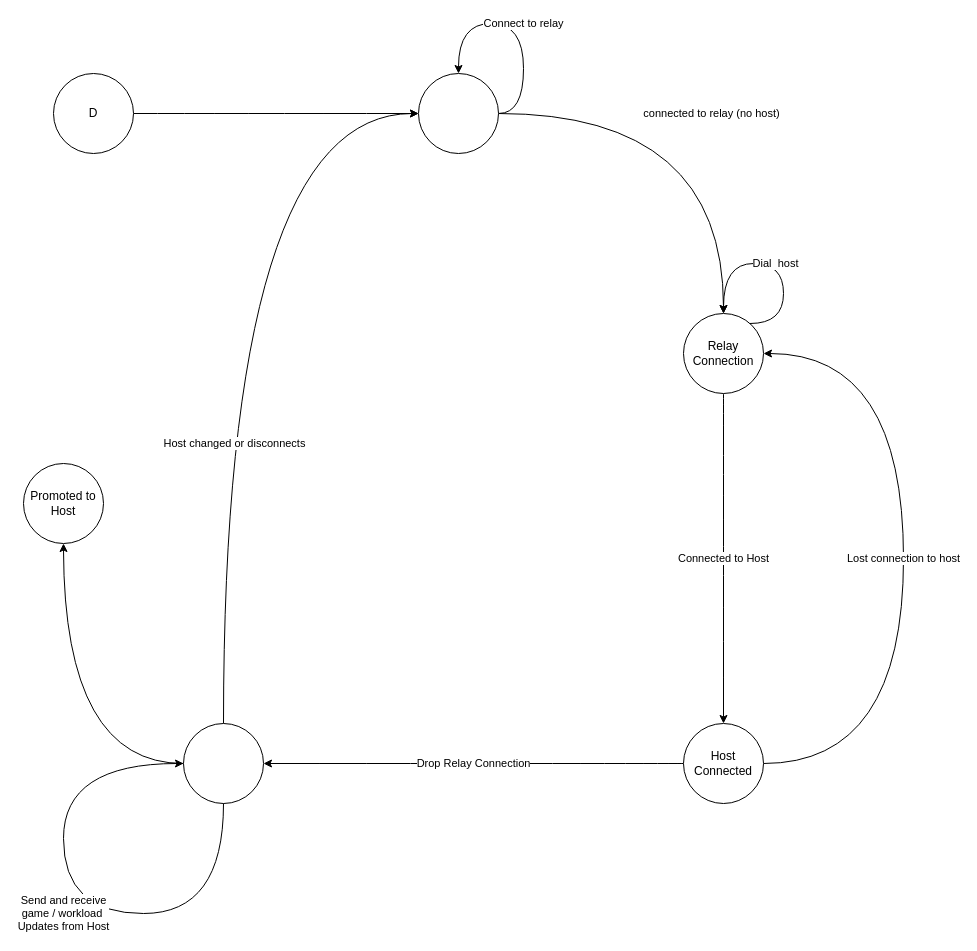
Image size: 977x951. Some labels were removed from this diagram. Here are the shapes that lost their labels. From the top down, the centre of each, then its label:
At (x=458, y=113): "No Connections".
At (x=223, y=763): "Play State".
